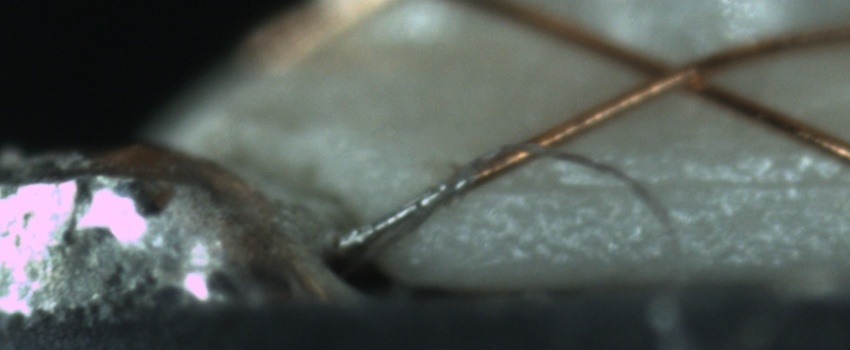CL: (622, 43, 721, 103)
DL: (462, 152, 850, 222)
TS: (328, 167, 473, 262)
